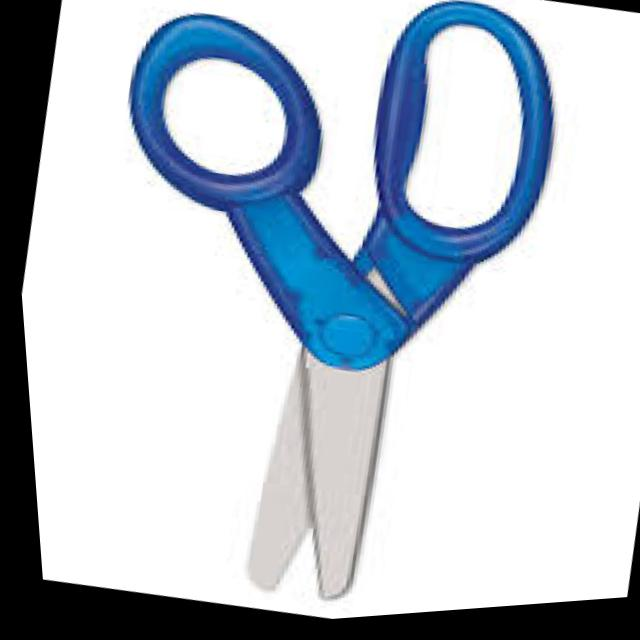scissor: (17, 0, 605, 639)
